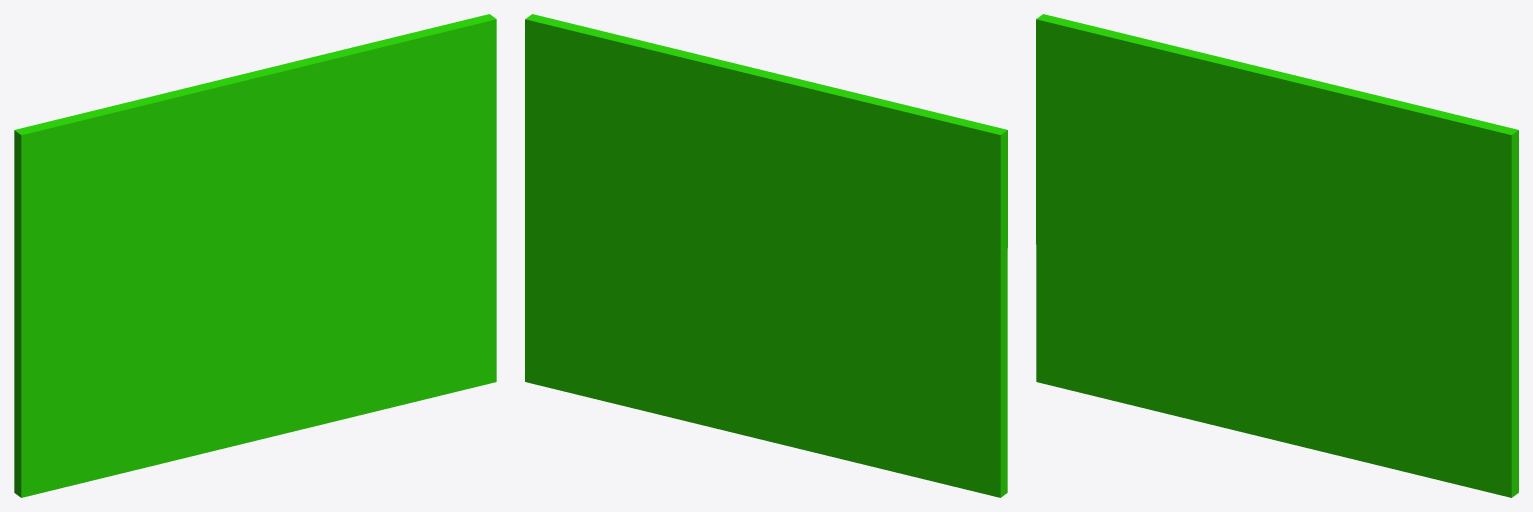
The model's file is BH05_Wall_Int_12.fbx.
The picture shows the model from 3 angles, left to right: view 1: azimuth 30°, elevation 25°; view 2: azimuth 150°, elevation 25°; view 3: azimuth 330°, elevation 25°; orthographic projection.
Parts seen in each view (by area): view 1: BH05_Wall_Int_12; view 2: BH05_Wall_Int_12; view 3: BH05_Wall_Int_12.
Boxes of the visible parts, left/top/right/bottom form: BH05_Wall_Int_12: left=14, top=14, right=496, bottom=497; BH05_Wall_Int_12: left=525, top=14, right=1007, bottom=497; BH05_Wall_Int_12: left=1036, top=14, right=1518, bottom=497.
Bounding box in the file's own units: 403 × 294 × 10.7.
